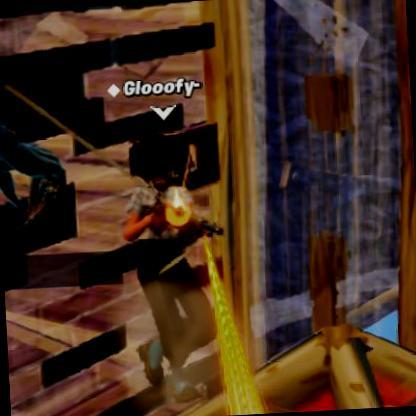person: (132, 139, 210, 356), (0, 80, 70, 244)
